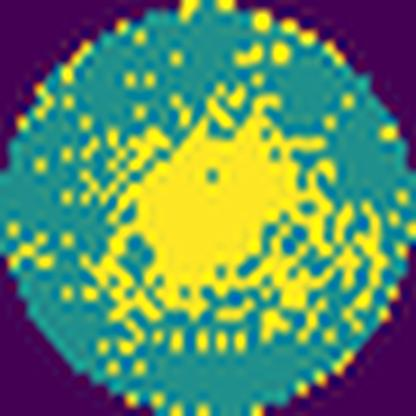Center: (116, 94, 328, 319)
